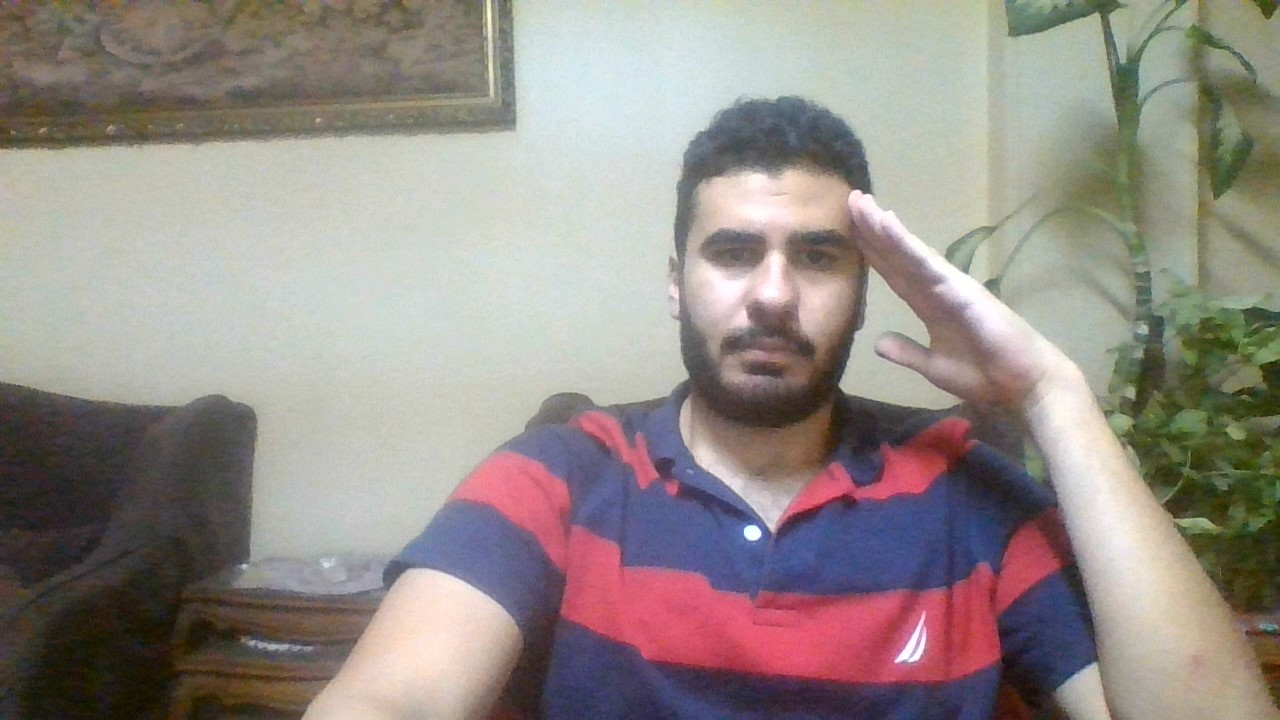hello: (834, 183, 1064, 410)
